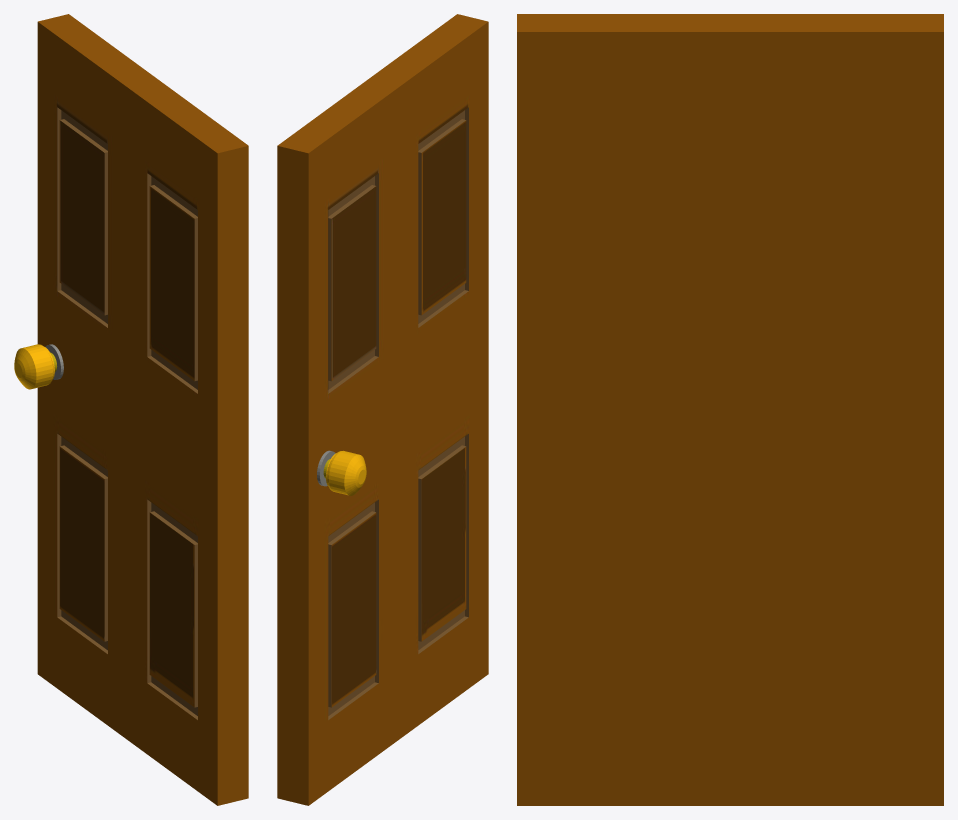
File: puerta.obj
3 renders of one model, left to right at view 1: azimuth 30°, elevation 25°; view 2: azimuth 150°, elevation 25°; view 3: azimuth 270°, elevation 25°, orthographic. The views are drawn at different scales.
Visible parts, largest first — view 1: Cube_Cube.001; view 2: Cube_Cube.001; view 3: Cube_Cube.001.
Boxes of the visible parts, <box> form: Cube_Cube.001: <box>14,14,248,805</box>; Cube_Cube.001: <box>277,14,488,805</box>; Cube_Cube.001: <box>517,14,943,805</box>.
Bounding box in the file's own units: 0.2161 × 2 × 1.
